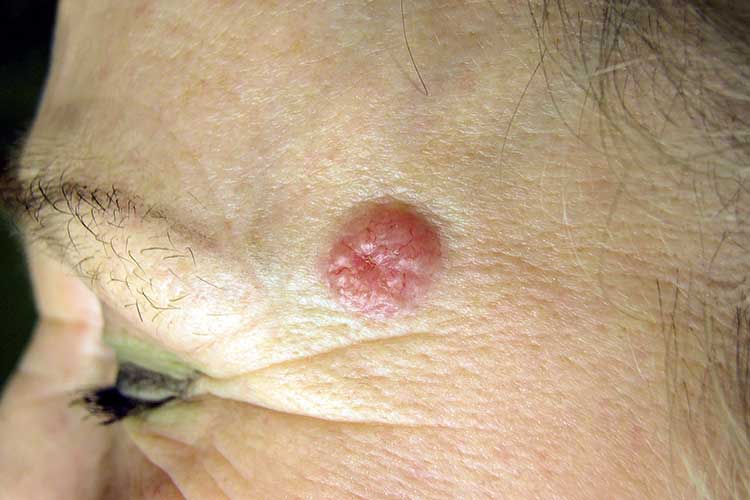Basa Cell Carcinoma: (291, 159, 501, 344)
